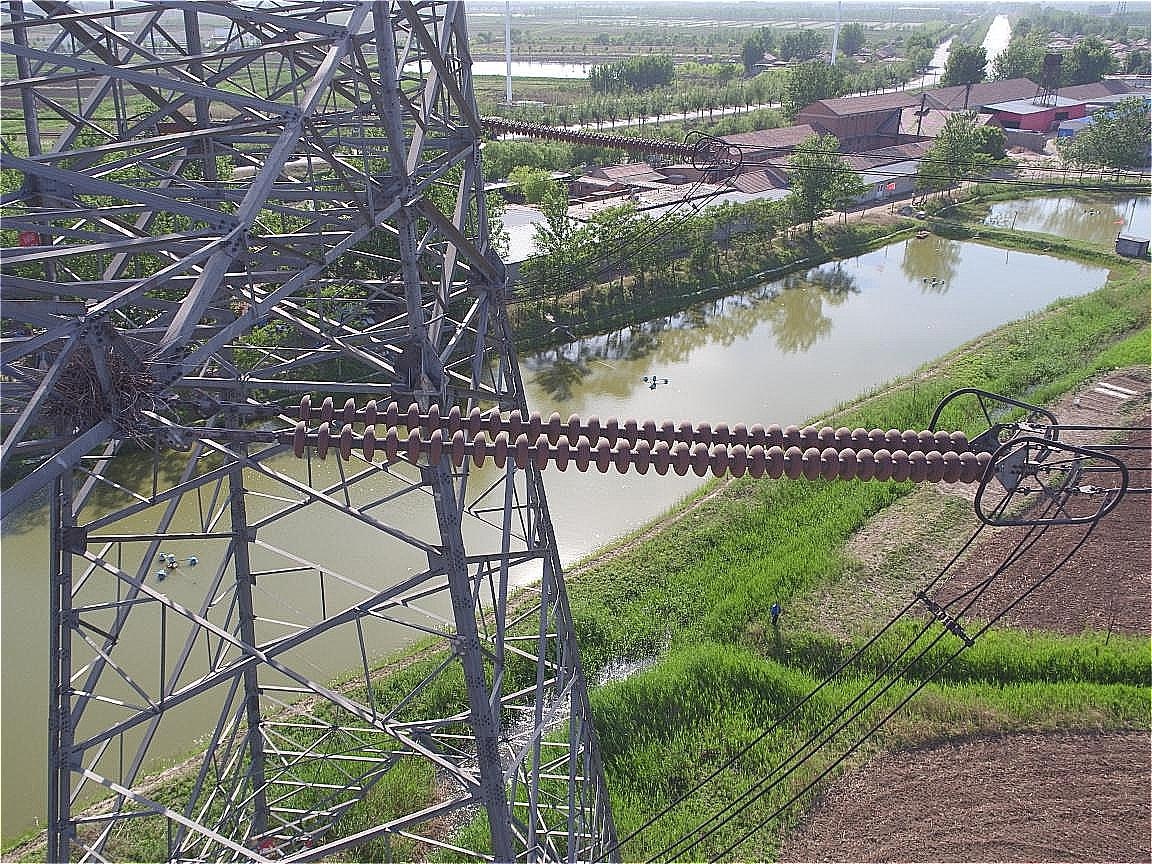insultor1: (277, 387, 1022, 499)
insultor2: (473, 99, 700, 166)
